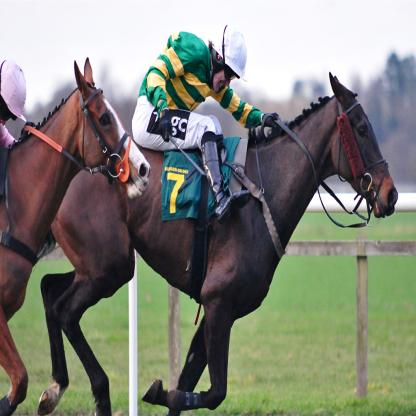Helmet: (0, 58, 28, 123), (222, 31, 249, 82)
